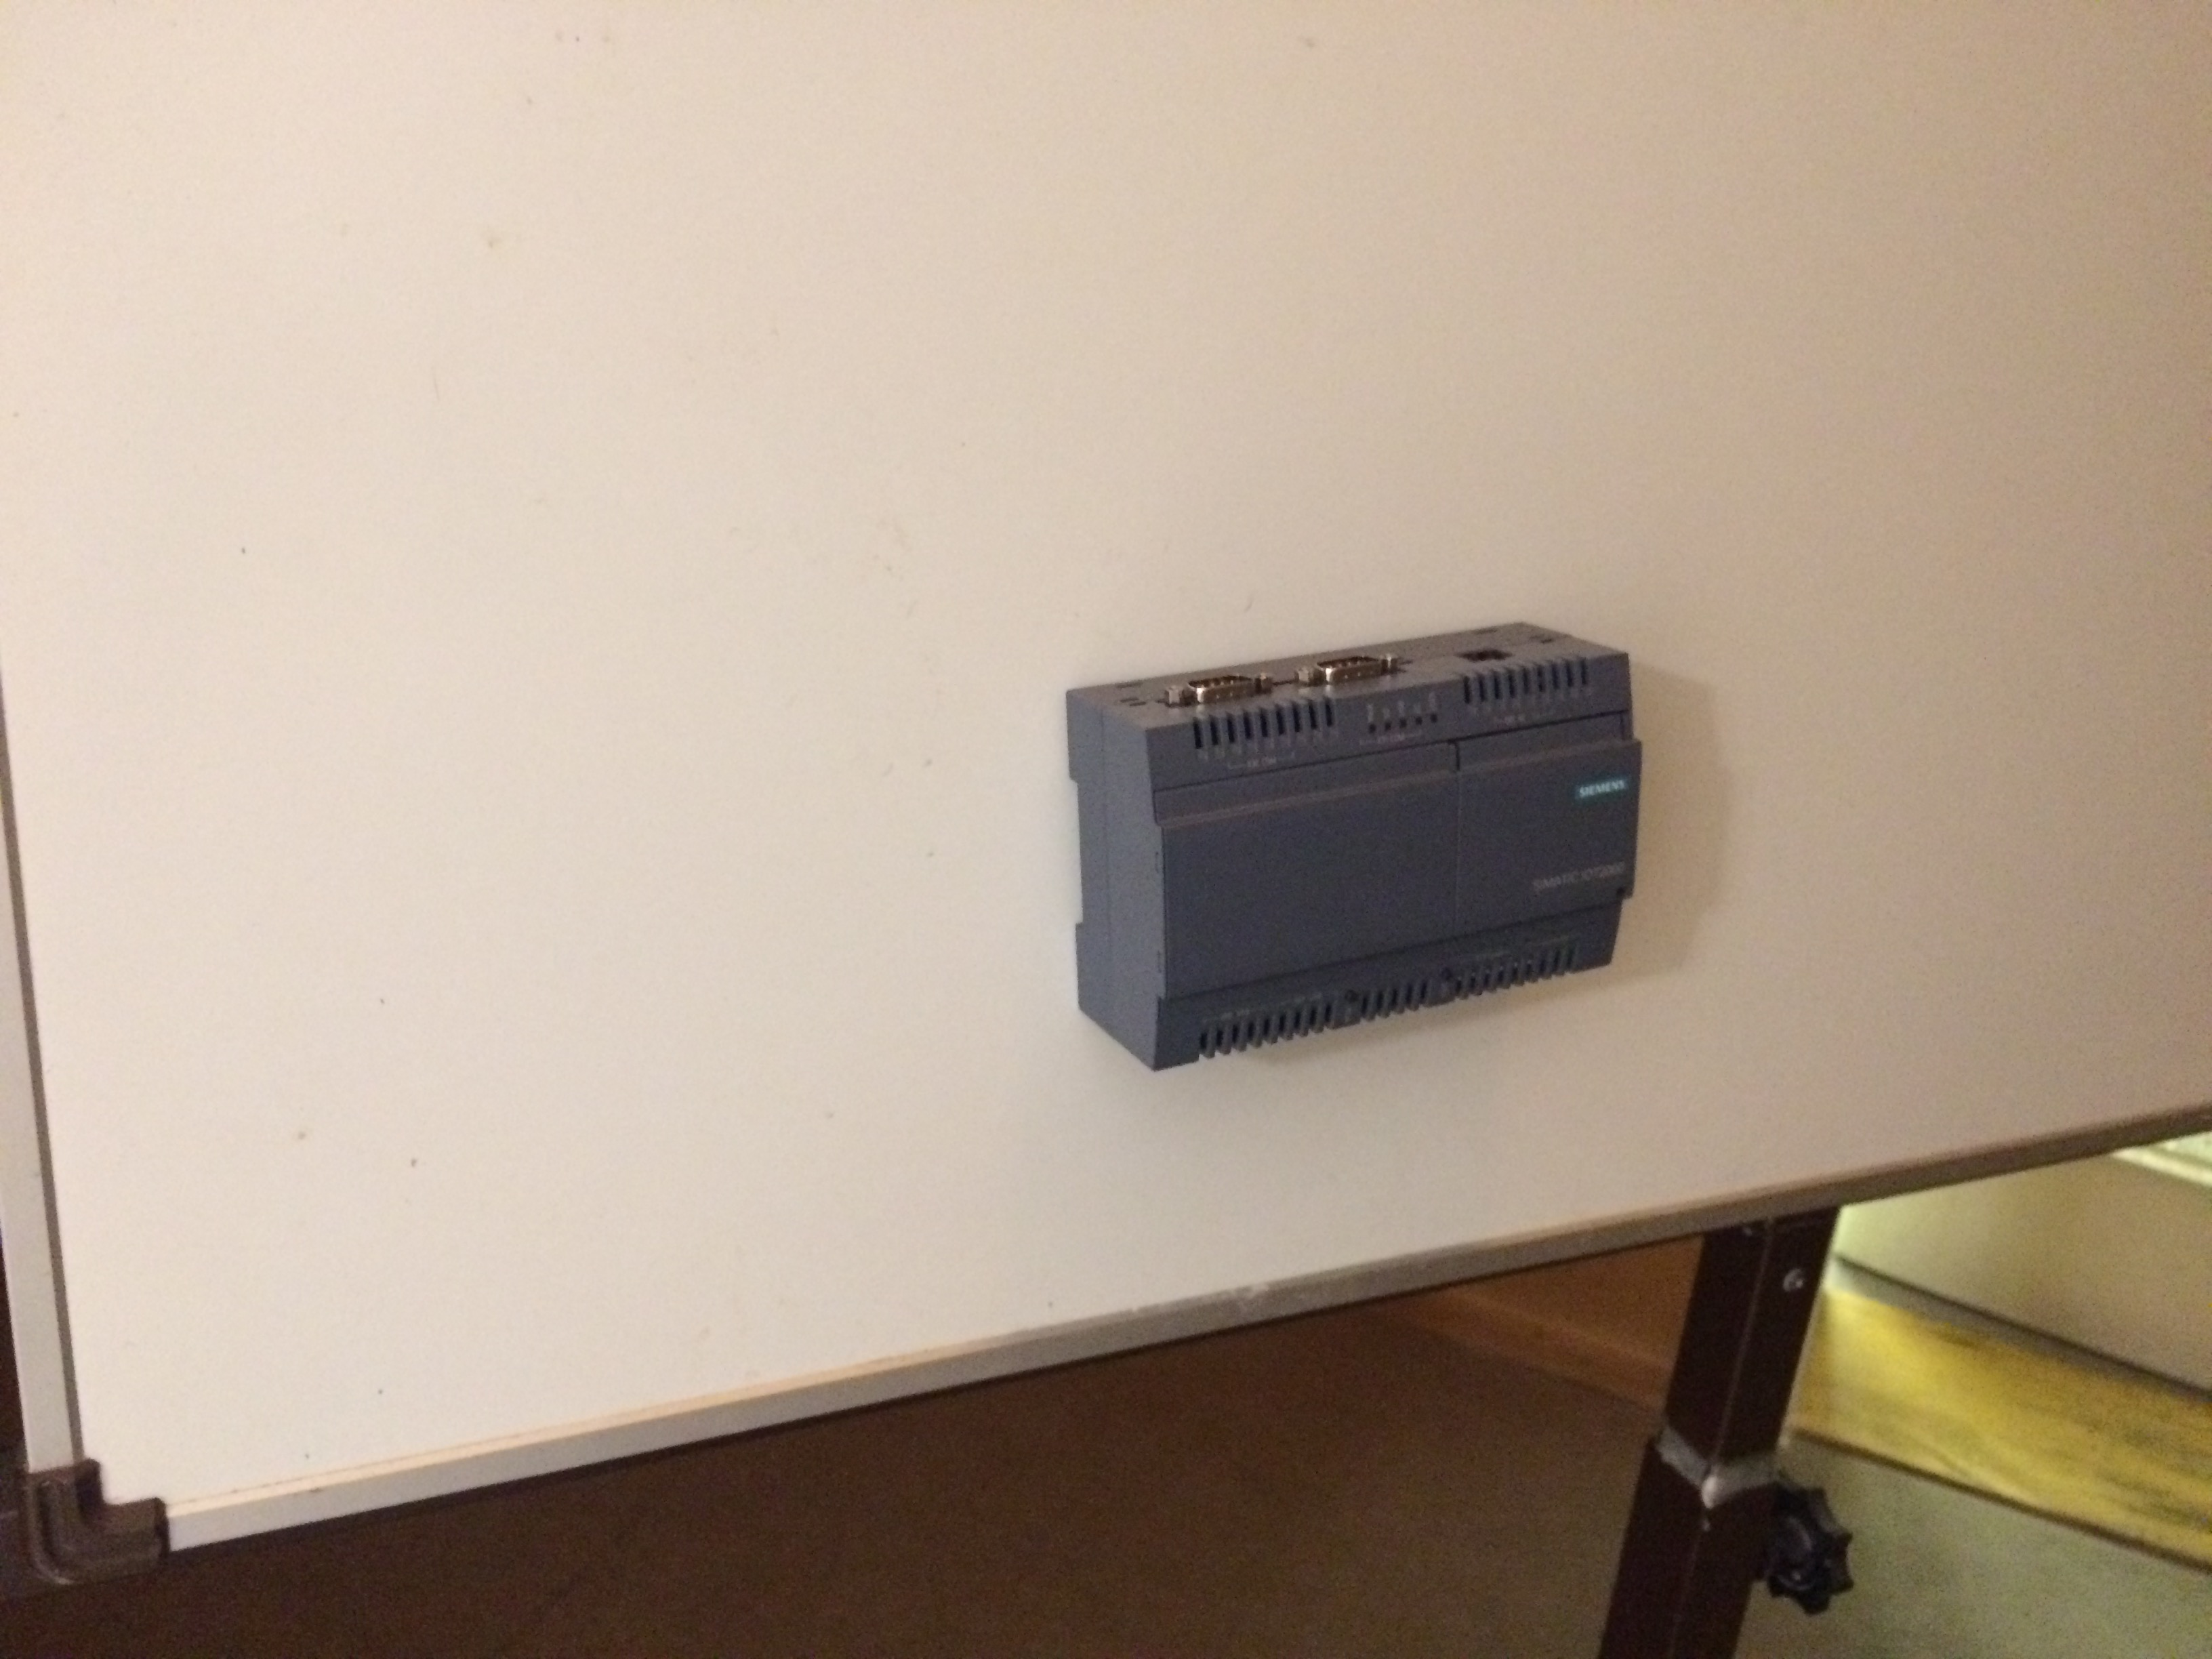iot2000: (1062, 619, 1646, 1075)
